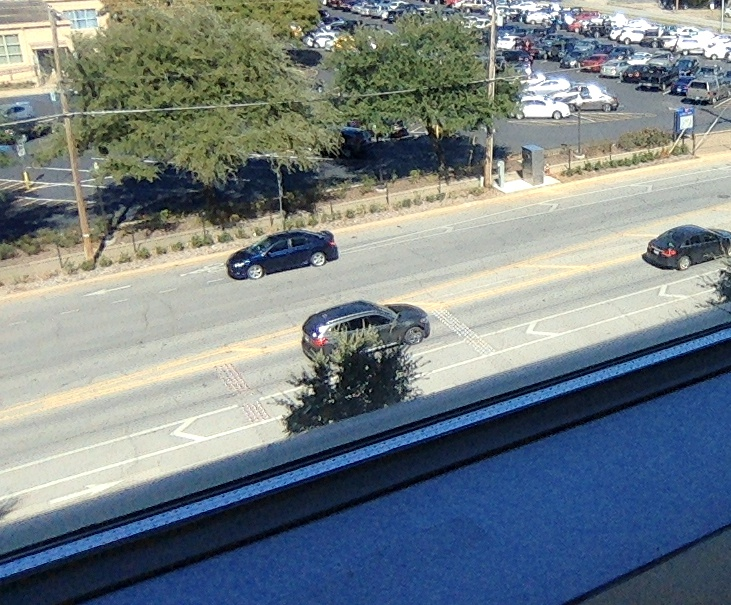car: (300, 300, 431, 363)
